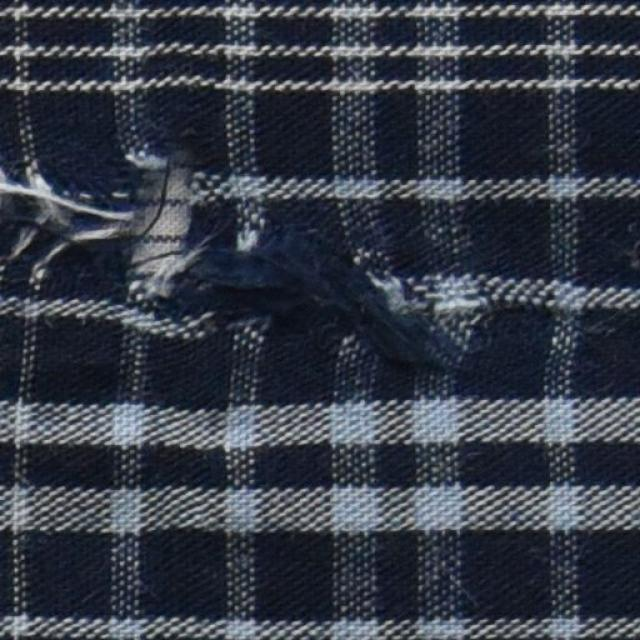Hole: (130, 158, 189, 277)
Snag: (168, 200, 480, 383), (0, 139, 144, 284)
